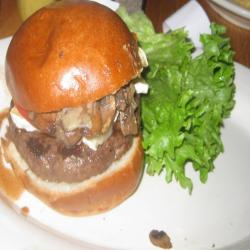burger: (4, 1, 155, 223)
salad: (147, 27, 229, 176)
